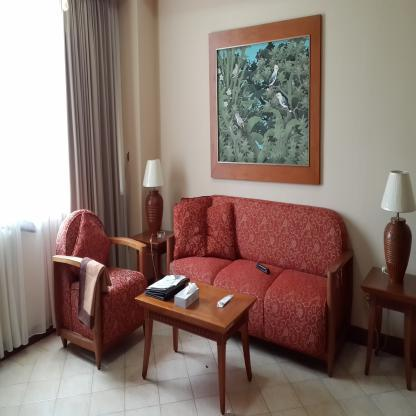kursi: (52, 213, 147, 371)
lampu: (380, 166, 415, 290), (143, 161, 166, 238)
meja: (136, 275, 252, 415)
sova: (171, 192, 349, 368)
